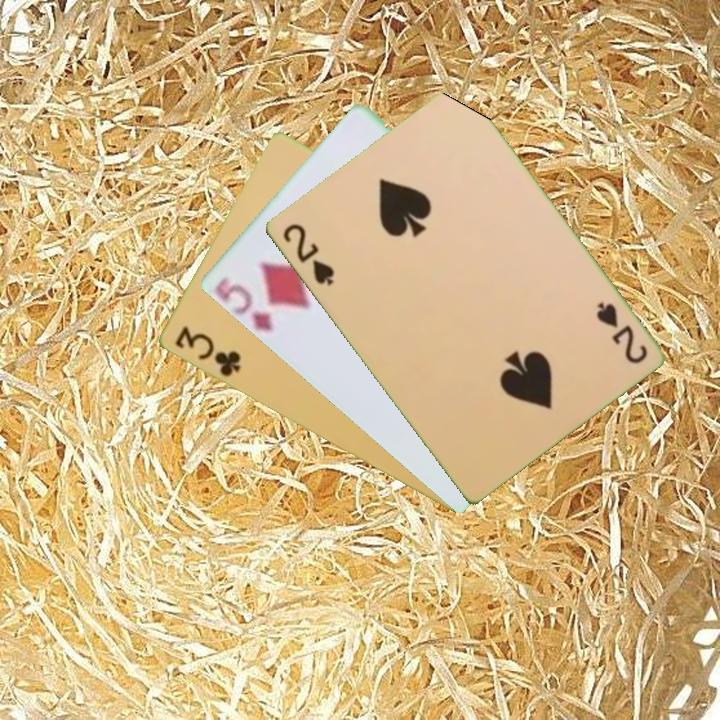2s: (591, 298, 650, 367), (278, 220, 337, 288)
3c: (170, 322, 243, 380)
5d: (215, 277, 276, 335)
